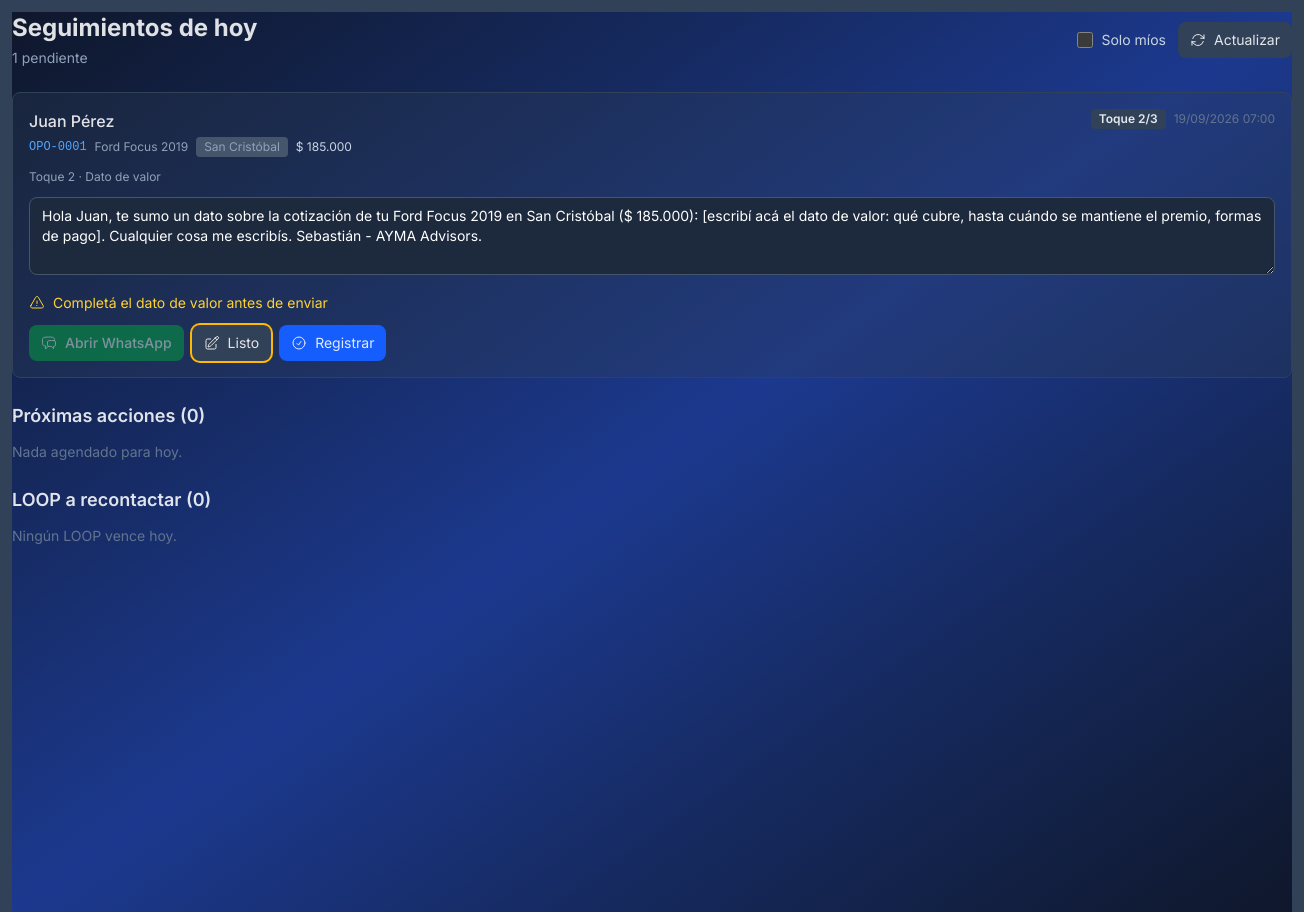
Test case: SeguimientosHoyPanel › C-9b: al sacar los corchetes el botón se habilita sin recargar
The width and height of the screenshot is (1304, 912).
Expected: the button "Juan Pérez" is shown, [29, 109, 114, 133]
Replace the text in the text box named "Mensaje de WhatsApp" with "Hola Juan, el premio se congela hasta fin de mes." at (652,236), box [29, 197, 1275, 275]
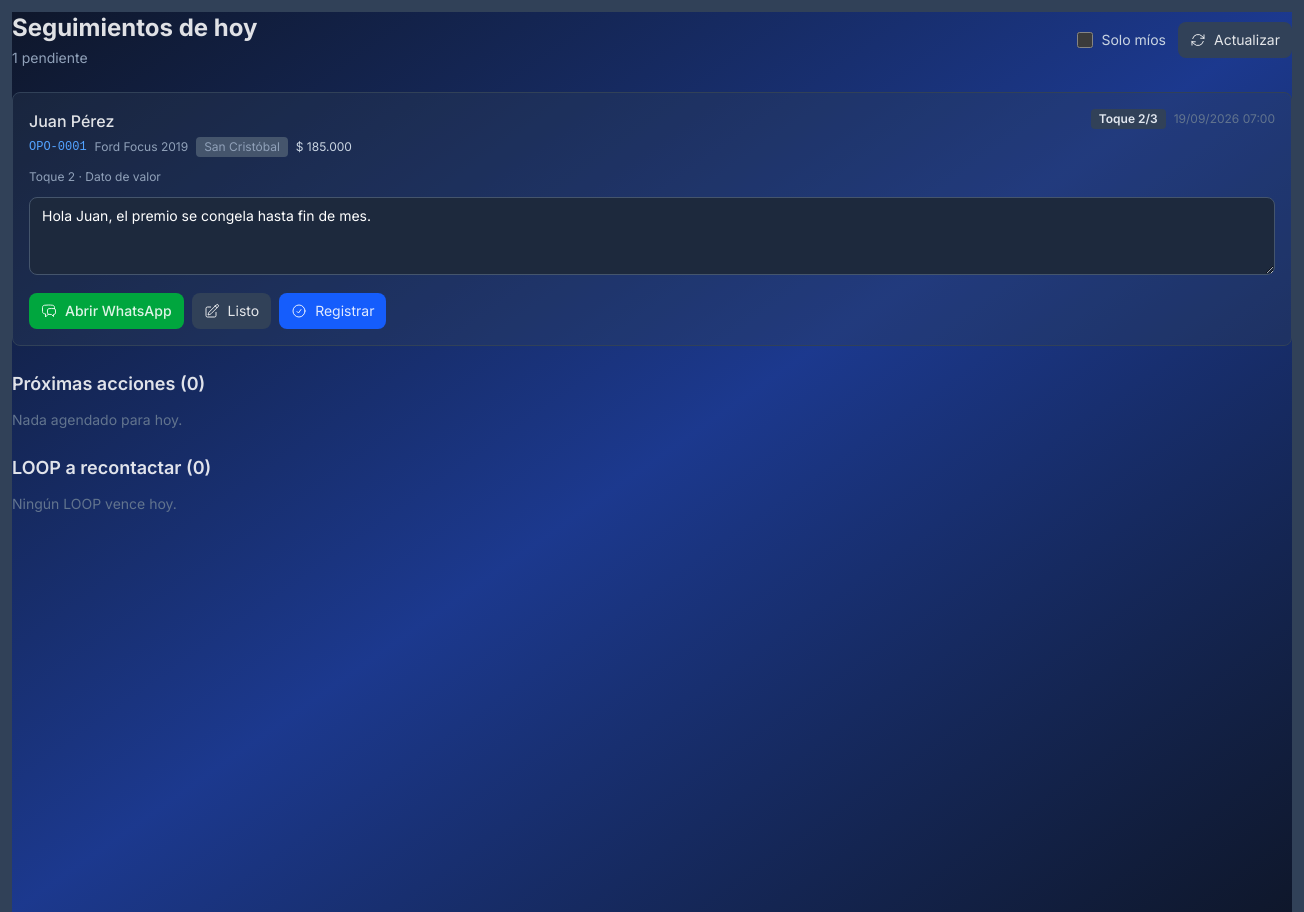
Now the text "Completá el dato de valor antes de enviar" is gone
